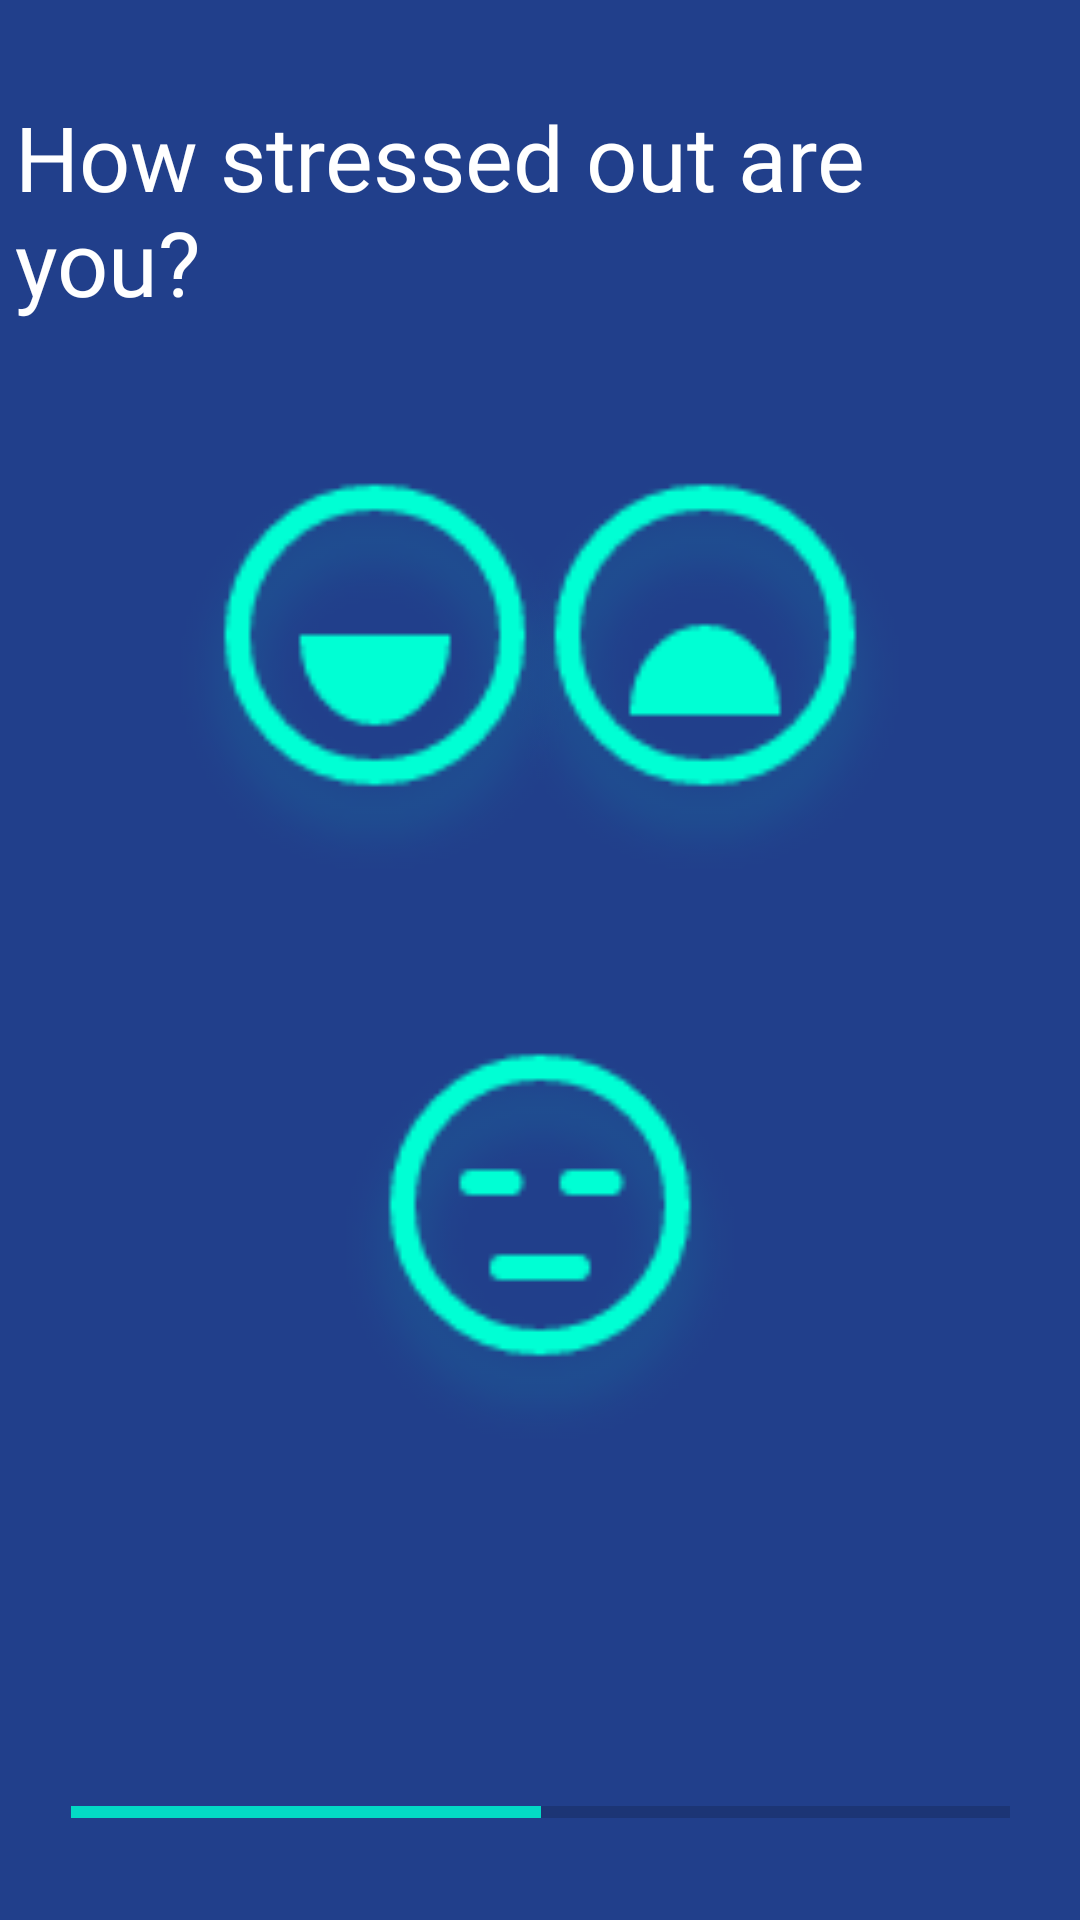

Locate icon controls on the screen. Image size 1080px x 1920px, boxes as (x1, y1, x2, y2).
happytwo: (223, 483, 527, 787)
mehtwo: (388, 1053, 692, 1357)
sadtwo: (553, 483, 857, 787)
